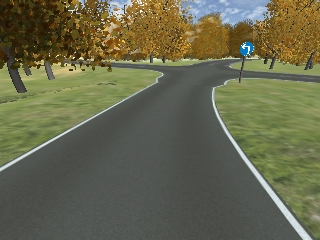left: (239, 41, 255, 58)
